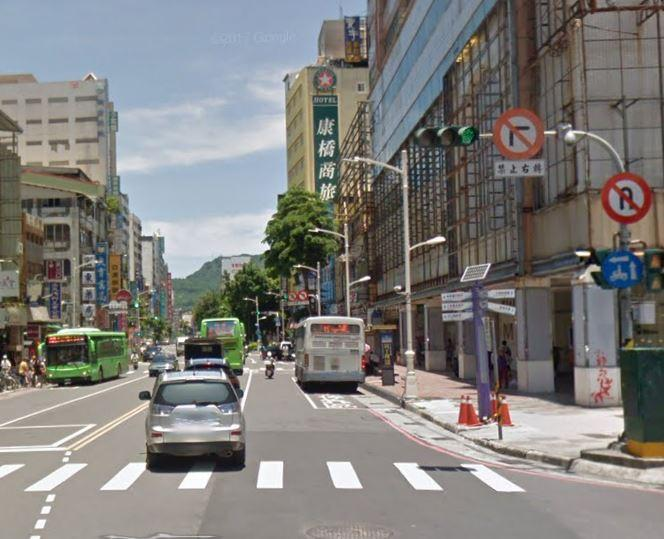bus: (289, 309, 367, 394), (39, 322, 130, 385), (200, 312, 252, 374)
car: (136, 371, 252, 471)
green_traffic_light: (410, 123, 477, 148)
